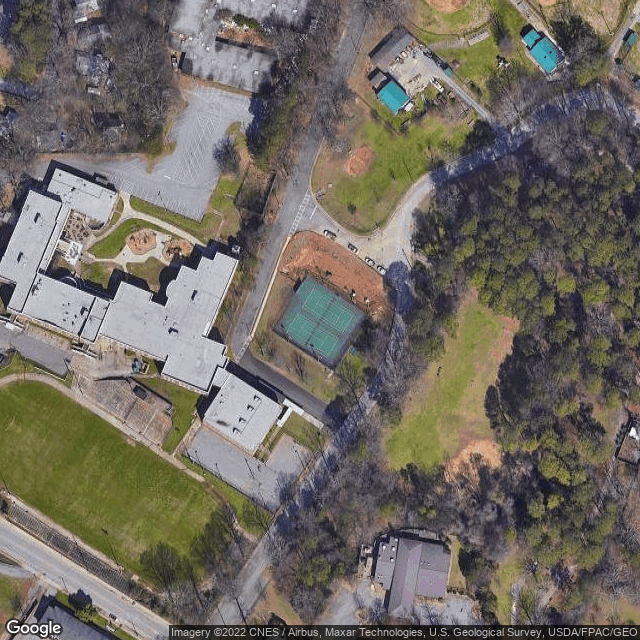Court: (286, 310, 340, 360), (300, 286, 357, 332)
